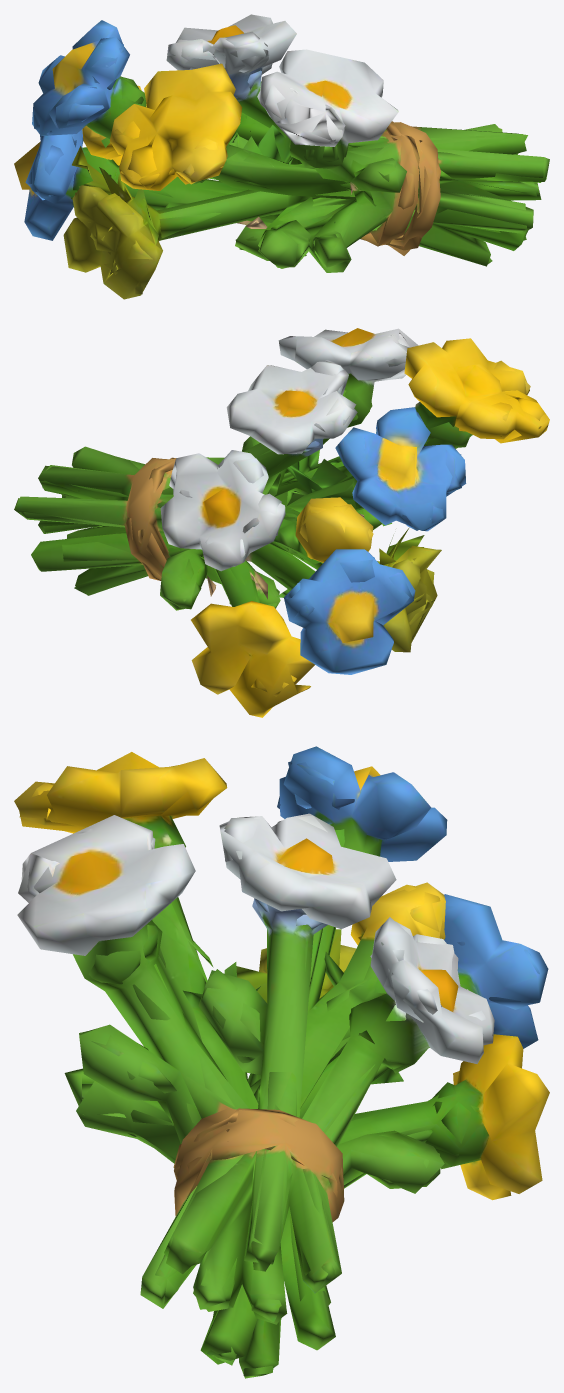
File: statue-flowers.glb
3 renders of one model, top to bottom at view 1: azimuth 30°, elevation 25°; view 2: azimuth 150°, elevation 25°; view 3: azimuth 270°, elevation 25°, orthographic. The views are drawn at different scales.
Bounding box in the file's own units: 0.6 × 0.3707 × 0.4449.
1 material, 1 textured.
